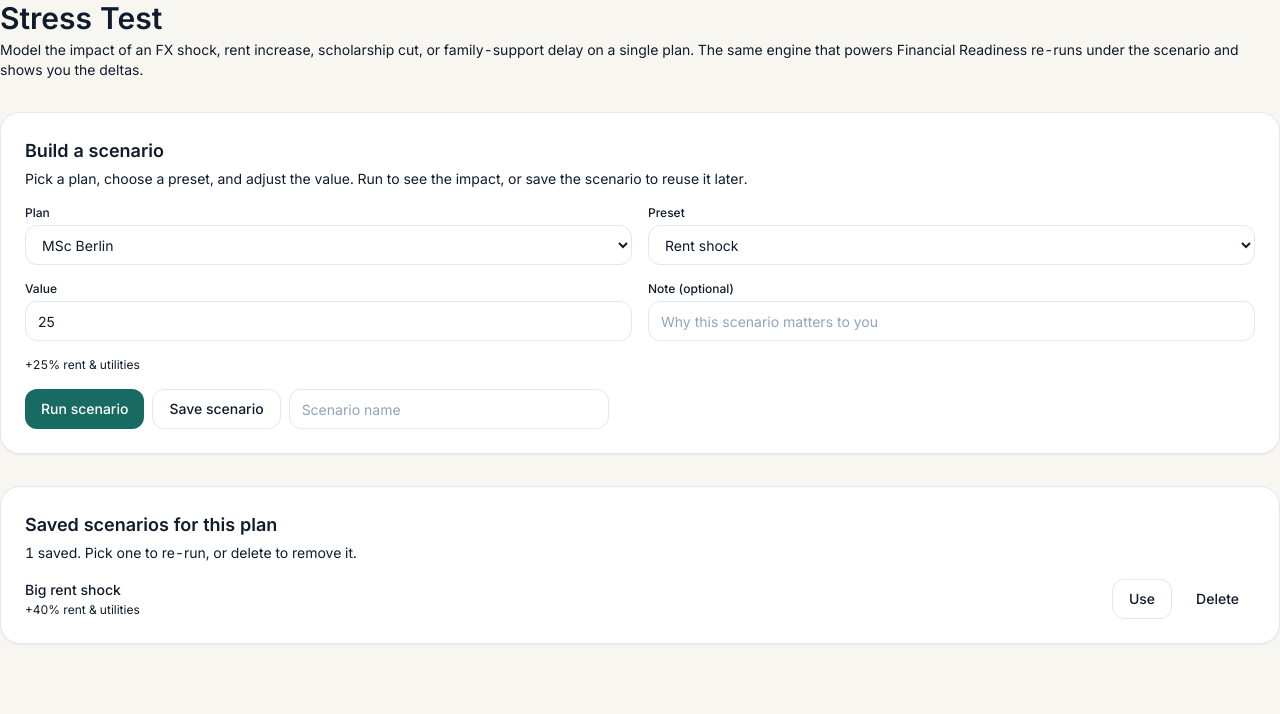
Test: StressTestWorkspace › renders the result panel after a successful run
This screenshot has width=1280, height=714.
Click the button "Run scenario" at (85, 409), box [25,389,144,429]
(page scrolled)
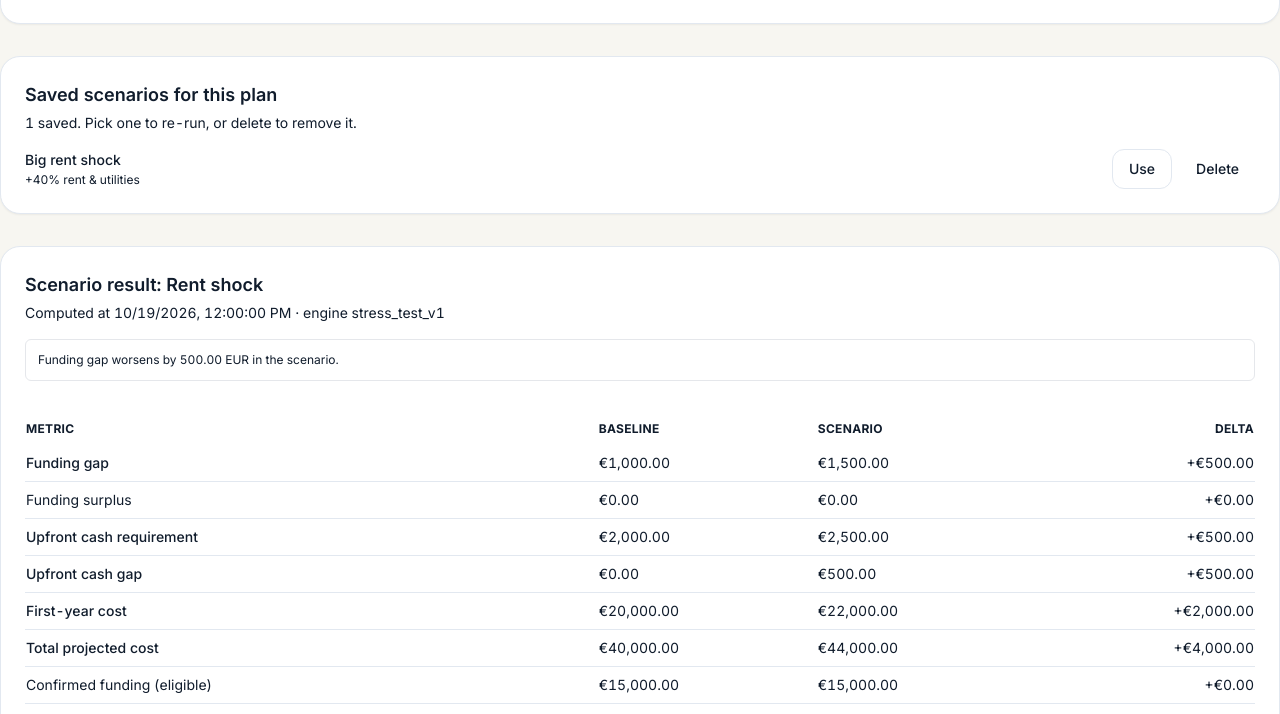
Now the heading "Scenario result: Rent shock" is shown, box [25,274,263,295]
Now the list item "Funding gap worsens by 500.00 EUR in the scenario." is shown, box [38,352,339,367]
